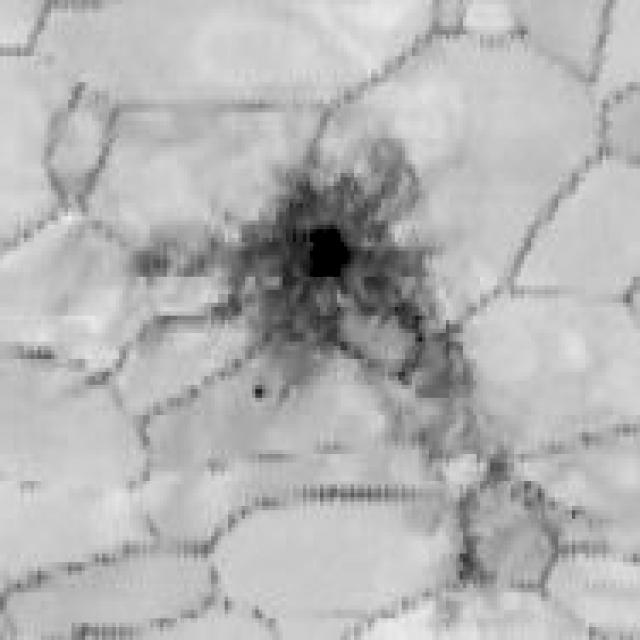good_void: (131, 136, 476, 456), (448, 537, 496, 595), (508, 471, 562, 517), (478, 446, 513, 481)
